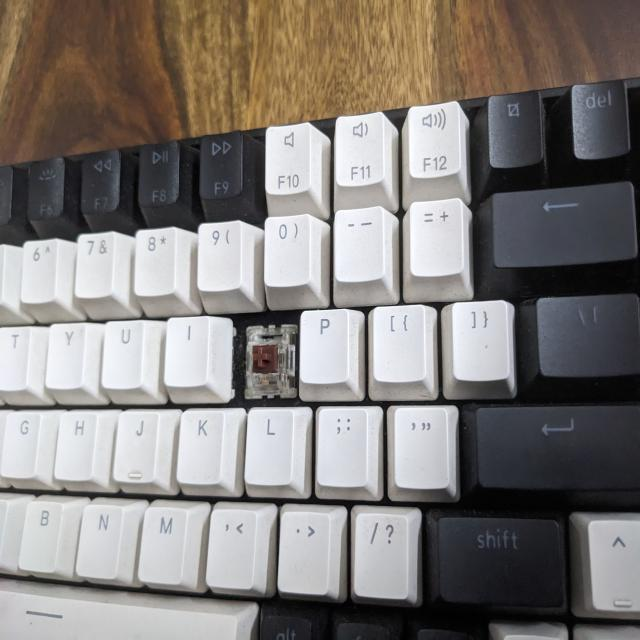C: (240, 322, 295, 400)
